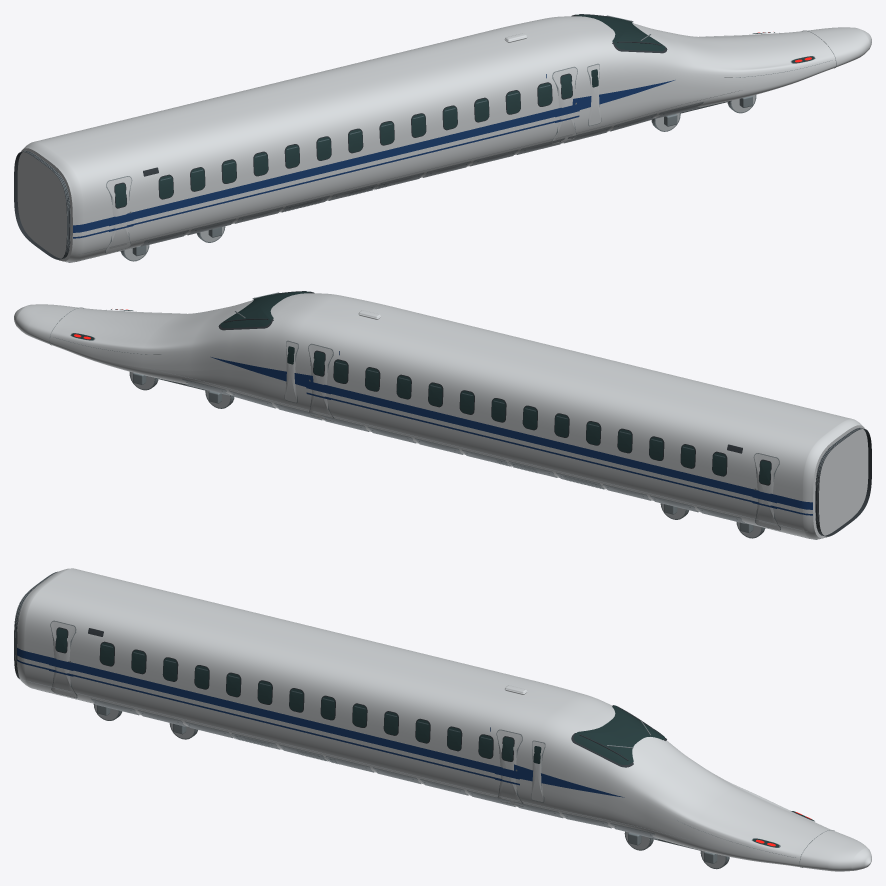
Rendered from n700s-tail.glb.
The picture shows the model from 3 angles, top to bottom: view 1: azimuth 30°, elevation 25°; view 2: azimuth 150°, elevation 25°; view 3: azimuth 330°, elevation 25°; orthographic projection.
Parts seen in each view (by area): view 1: Pearl white enamel, Deep blue livery, Passenger tinted glazing, Underfloor aluminum fairing, Glazing gaskets and bellows, Panel recess, Cab laminated smoked glass, Bogie steel and pantograph, Machined wheel rim; view 2: Pearl white enamel, Deep blue livery, Passenger tinted glazing, Underfloor aluminum fairing, Glazing gaskets and bellows, Panel recess, Cab laminated smoked glass, Bogie steel and pantograph, Machined wheel rim; view 3: Pearl white enamel, Deep blue livery, Passenger tinted glazing, Underfloor aluminum fairing, Cab laminated smoked glass, Glazing gaskets and bellows, Panel recess, Bogie steel and pantograph, Machined wheel rim.
Boxes of the visible parts, bbox=[...] form: Pearl white enamel: bbox=[17, 16, 871, 262]; Deep blue livery: bbox=[73, 74, 674, 238]; Passenger tinted glazing: bbox=[115, 74, 572, 207]; Underfloor aluminum fairing: bbox=[59, 90, 739, 262]; Glazing gaskets and bellows: bbox=[14, 14, 667, 259]; Panel recess: bbox=[18, 30, 836, 259]; Cab laminated smoked glass: bbox=[575, 14, 814, 87]; Bogie steel and pantograph: bbox=[120, 15, 815, 261]; Machined wheel rim: bbox=[124, 95, 755, 260]; Pearl white enamel: bbox=[14, 293, 868, 539]; Deep blue livery: bbox=[211, 351, 812, 515]; Passenger tinted glazing: bbox=[313, 351, 770, 484]; Underfloor aluminum fairing: bbox=[146, 367, 826, 539]; Glazing gaskets and bellows: bbox=[218, 291, 871, 536]; Panel recess: bbox=[49, 307, 867, 536]; Cab laminated smoked glass: bbox=[71, 291, 310, 364]; Bogie steel and pantograph: bbox=[70, 292, 765, 538]; Machined wheel rim: bbox=[130, 372, 761, 537]; Pearl white enamel: bbox=[17, 568, 871, 871]; Deep blue livery: bbox=[17, 648, 624, 797]; Passenger tinted glazing: bbox=[56, 628, 513, 761]; Underfloor aluminum fairing: bbox=[24, 680, 689, 839]; Cab laminated smoked glass: bbox=[533, 705, 814, 847]; Glazing gaskets and bellows: bbox=[14, 572, 666, 767]; Panel recess: bbox=[14, 571, 834, 867]; Bogie steel and pantograph: bbox=[69, 661, 814, 869]; Machined wheel rim: bbox=[94, 704, 725, 868].
Size of the model in its own units: 27.35 by 3.71 by 3.44.
